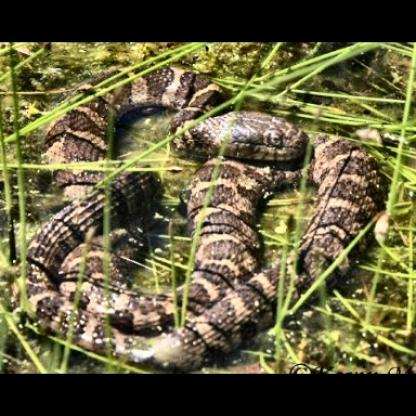Snake: (7, 71, 357, 360)
